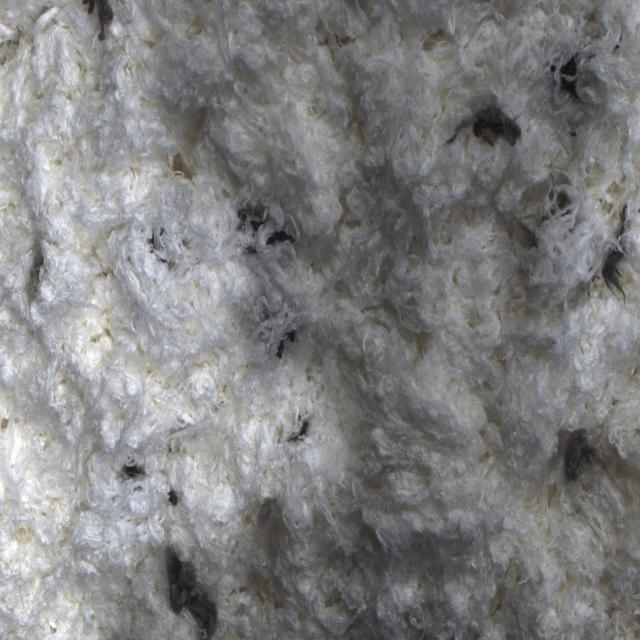dust: (530, 387, 603, 514), (3, 211, 72, 316), (162, 542, 223, 640), (596, 197, 639, 312), (442, 96, 530, 149), (236, 195, 291, 262), (549, 42, 592, 113), (75, 0, 125, 57), (116, 438, 152, 509), (265, 318, 307, 375), (278, 399, 312, 453), (162, 138, 192, 191), (549, 166, 573, 224), (166, 484, 183, 511)
